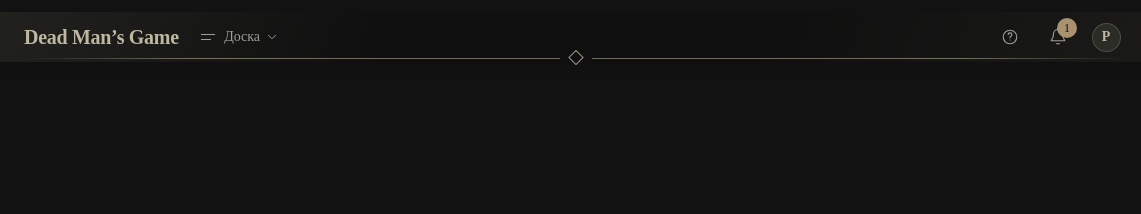
PanelNavigation › shows invitations only for the current game while registration is open
expect the text "1" is shown: met, box 1057,18 -> 1077,38
Click the button named "Открыть уведомления" at (1058, 37), box 1036,15 -> 1080,59
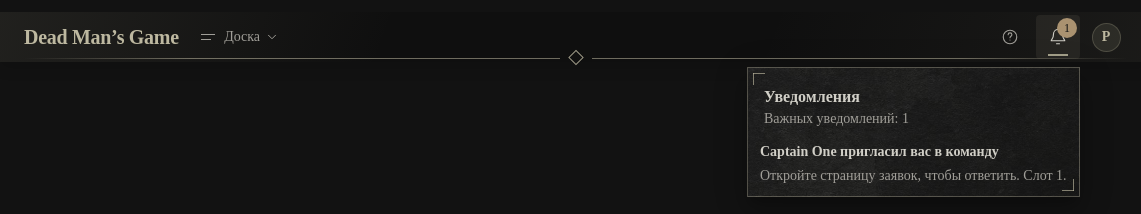
expect the menu item "Captain One пригласил вас в команду" is shown: met, box 748,139 -> 1079,188
